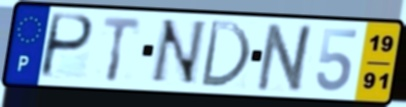5: (314, 26, 360, 93)
D: (197, 18, 253, 90)
N: (253, 22, 319, 95), (146, 17, 209, 87)
P: (37, 11, 96, 81)
T: (101, 15, 143, 84)
